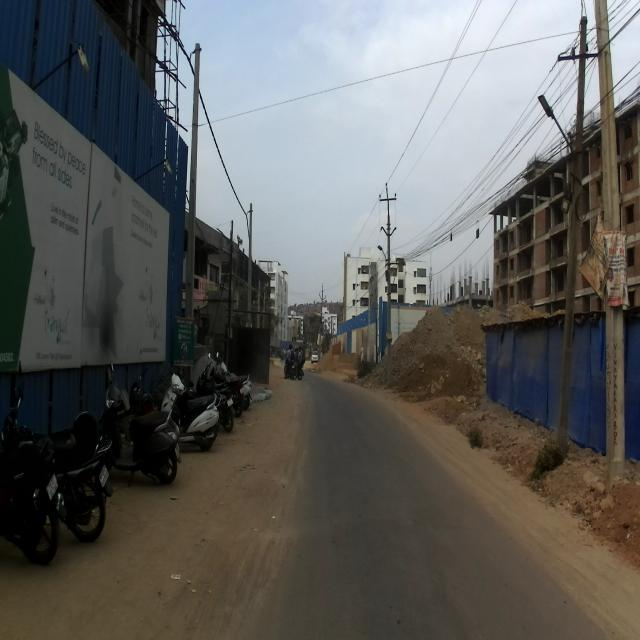electric pole ahead at: (532, 9, 602, 452)
